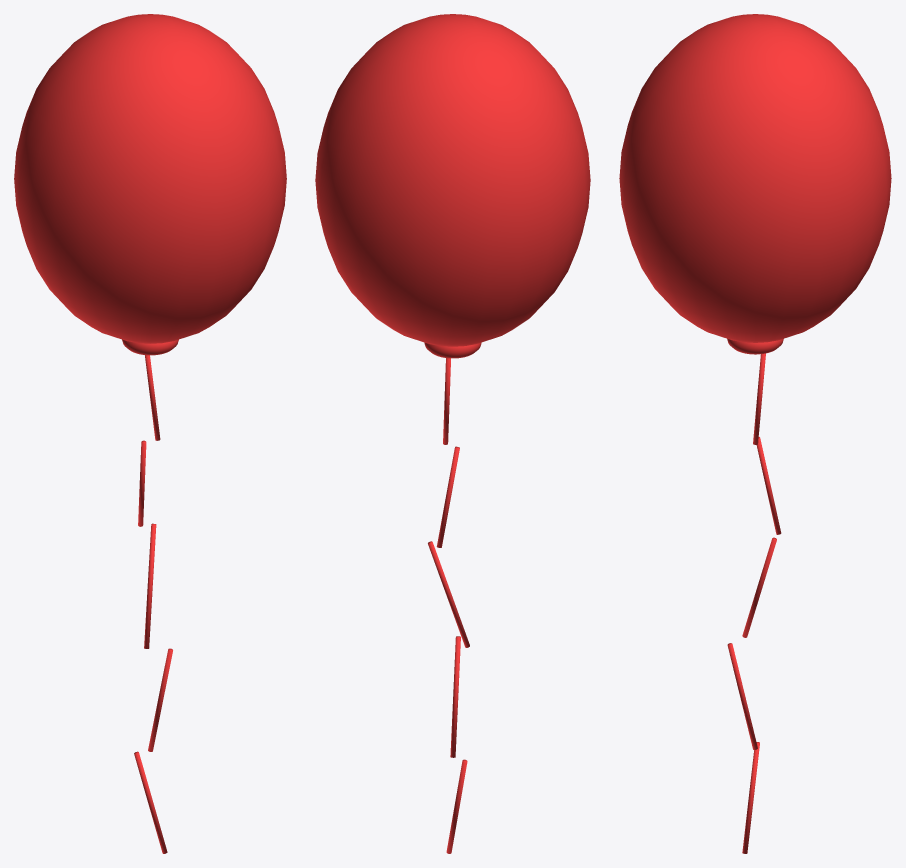
File: SM_Partygoer_Balloon.fbx
3 renders of one model, left to right at view 1: azimuth 30°, elevation 25°; view 2: azimuth 150°, elevation 25°; view 3: azimuth 270°, elevation 25°, orthographic.
Parts seen in each view (by area): view 1: Sphere; view 2: Sphere; view 3: Sphere.
Part boxes in pixels (box(x1,y1,x2,y2)): Sphere: box(14, 14, 286, 853); Sphere: box(315, 14, 590, 853); Sphere: box(619, 14, 891, 853).
Size of the model in its own units: 32 by 107 by 32.
